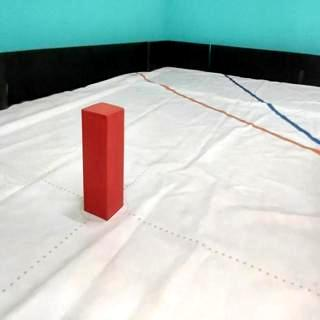redbox: (82, 101, 125, 218)
